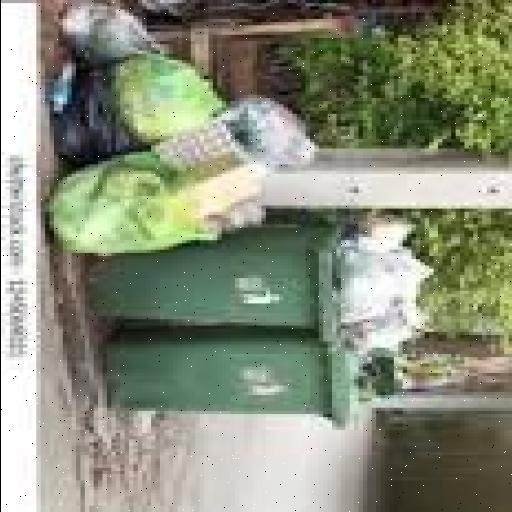poubelle_pleine: (67, 204, 441, 362)
poubelle_vide: (84, 348, 364, 438)
